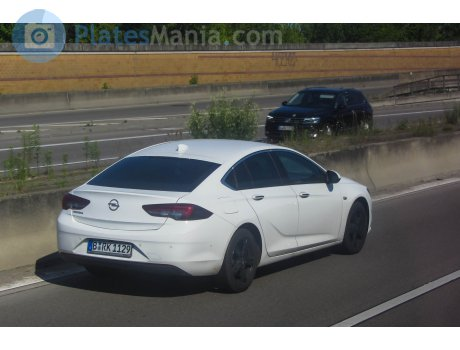License Plates: (87, 238, 130, 253)
